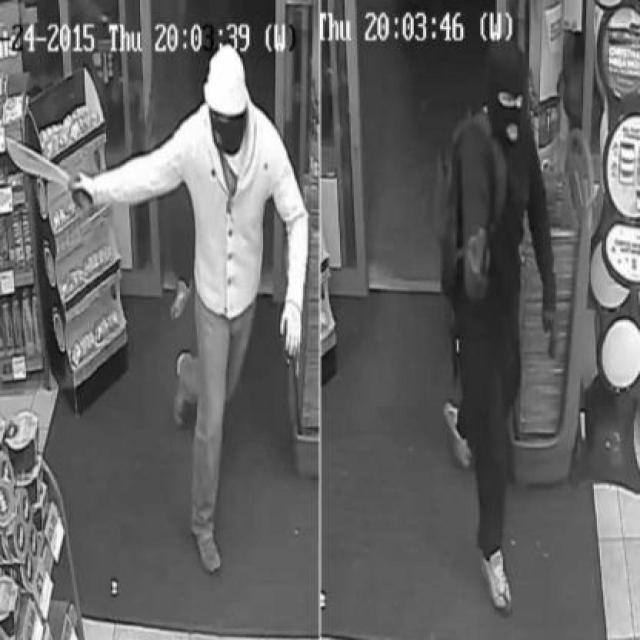weapon: (542, 312, 561, 362)
